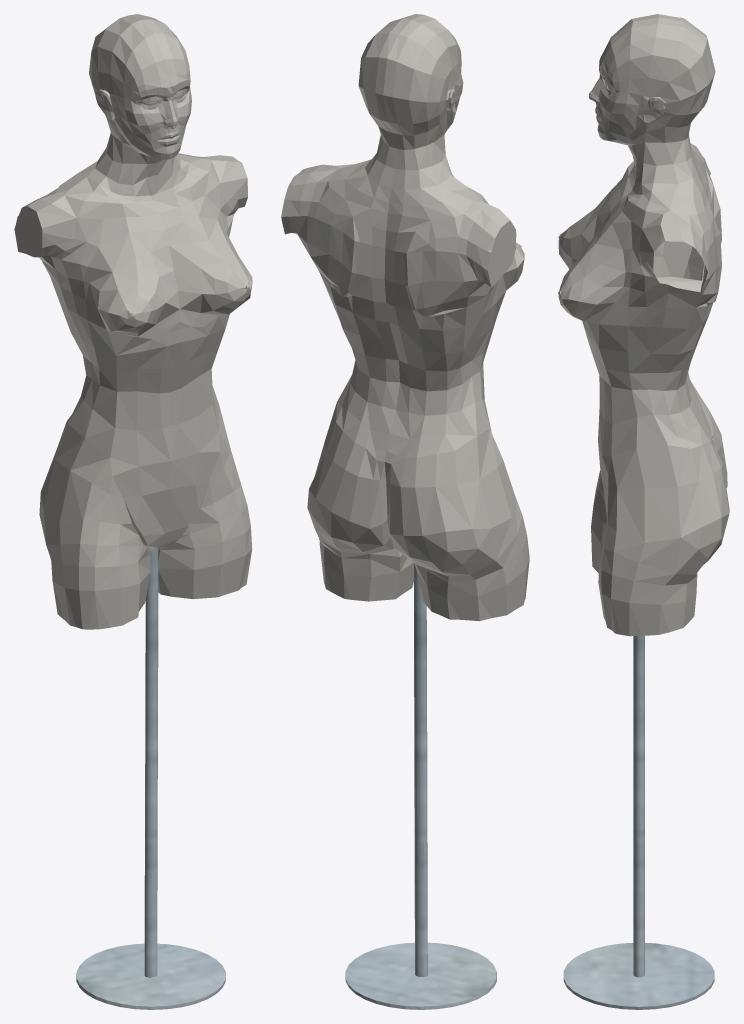
The model's file is mannequinF.fbx.
3 renders of one model, left to right at view 1: azimuth 30°, elevation 25°; view 2: azimuth 150°, elevation 25°; view 3: azimuth 270°, elevation 25°, orthographic.
Parts seen in each view (by area): view 1: MOB-002; view 2: MOB-002; view 3: MOB-002.
Part boxes in pixels (box(x1,y1,x2,y2)): MOB-002: box(14, 14, 252, 1009); MOB-002: box(281, 14, 529, 1009); MOB-002: box(558, 14, 729, 1009).
Size of the model in its own units: 35.53 by 25.47 by 158.
2 materials, 1 textured.
